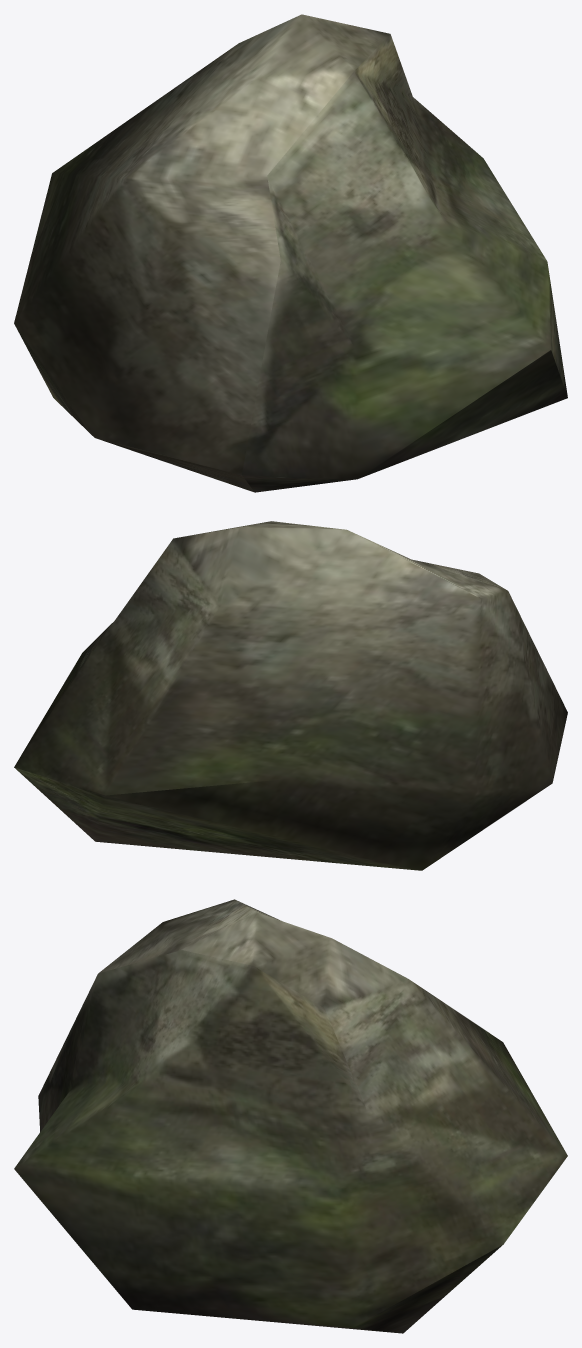
File: rock_4_floor.fbx
3 views of the same model, one above another, from view 1: azimuth 30°, elevation 25°; view 2: azimuth 150°, elevation 25°; view 3: azimuth 270°, elevation 25° (orthographic). The views are drawn at different scales.
Visible parts, largest first — view 1: rock_1; view 2: rock_1; view 3: rock_1.
Boxes of the visible parts, x1,y1,x2,y2 form: rock_1: (14,14,567,492); rock_1: (14,521,567,870); rock_1: (14,899,567,1333).
Size of the model in its own units: 198 by 139 by 205.
1 material, 1 textured.
